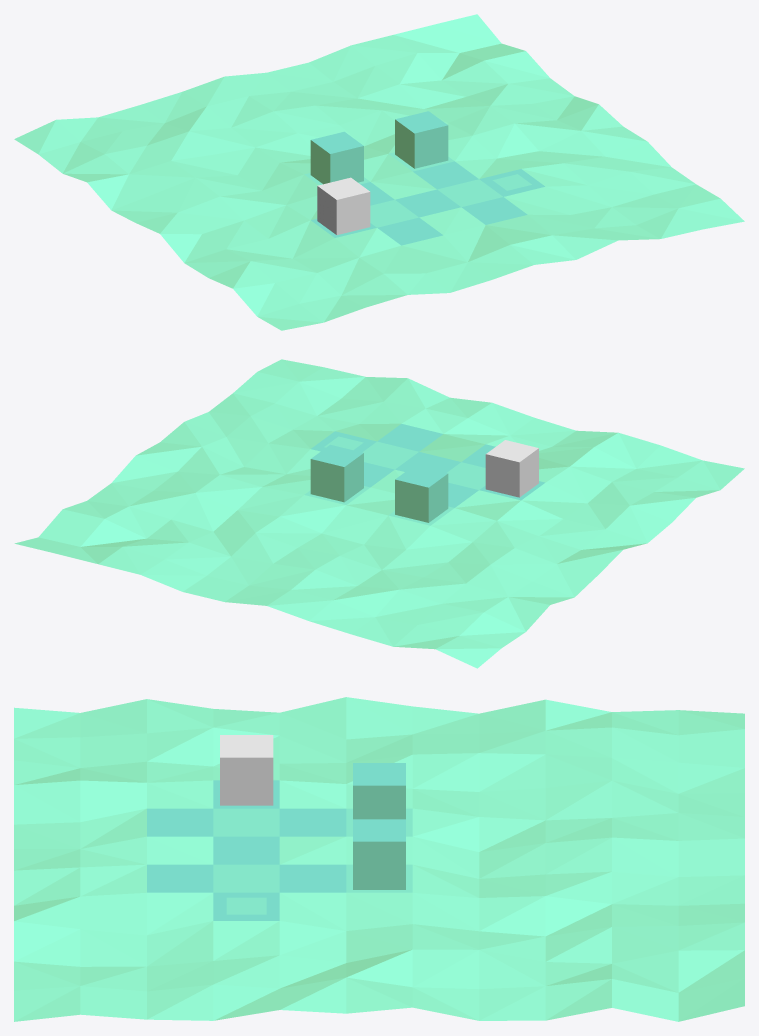
Rendered from Level67.dae.
3 renders of one model, top to bottom at view 1: azimuth 30°, elevation 25°; view 2: azimuth 150°, elevation 25°; view 3: azimuth 270°, elevation 25°, orthographic. The views are drawn at different scales.
Parts seen in each view (by area): view 1: surface, Enemy1, Blocky, Enemy0; view 2: surface, Blocky, Enemy1, Enemy0; view 3: surface, Blocky, Enemy1, Enemy0.
Boxes of the visible parts, x1,y1,x2,y2 form: surface: (14, 14, 744, 330); Enemy1: (395, 111, 448, 168); Blocky: (317, 177, 370, 234); Enemy0: (310, 131, 363, 184); surface: (14, 359, 744, 668); Blocky: (485, 440, 538, 497); Enemy1: (310, 444, 363, 502); Enemy0: (395, 465, 448, 522); surface: (14, 697, 744, 1021); Blocky: (220, 735, 273, 805); Enemy1: (353, 819, 405, 889); Enemy0: (353, 763, 405, 819).
Bounding box in the file's own units: 11 × 11 × 1.1.
